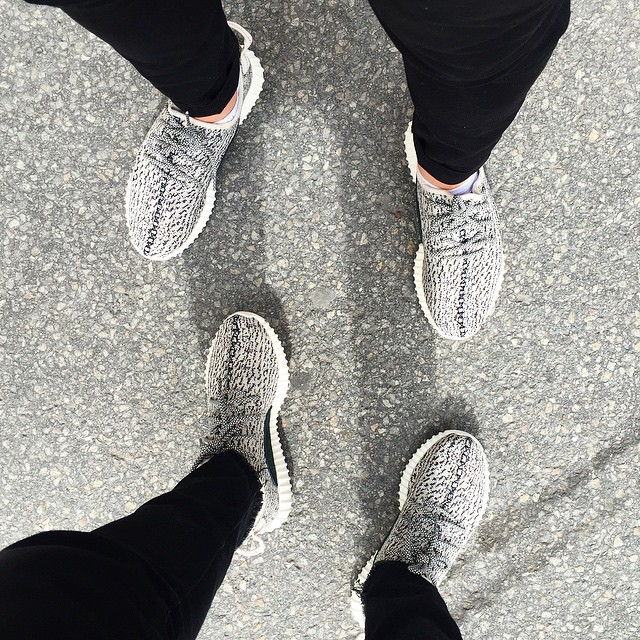sneaker: (112, 12, 287, 269), (342, 415, 503, 633), (183, 301, 307, 554), (398, 111, 513, 350)
